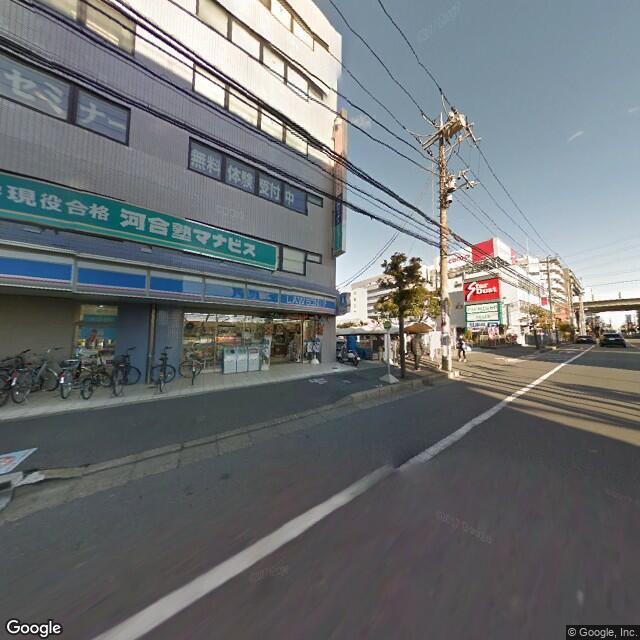lawson: (2, 242, 338, 318)
